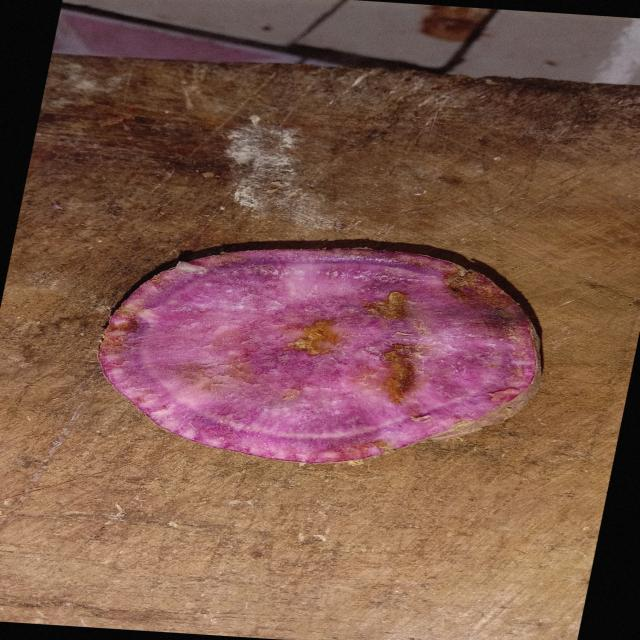Sick Sweet Potato_Tuber Rot: (100, 249, 540, 462)
